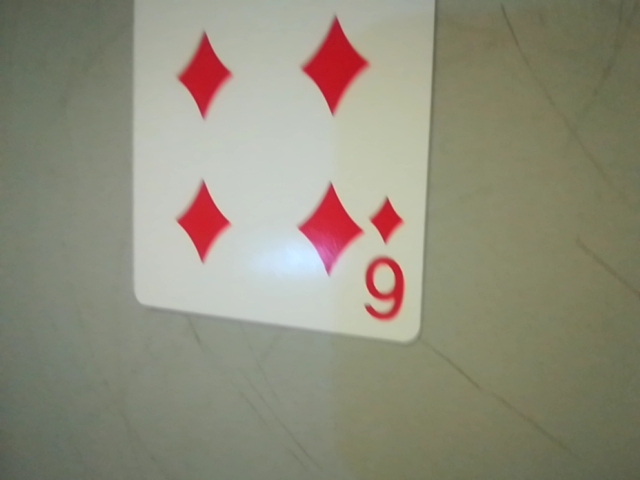fk 6: (352, 188, 418, 331)
